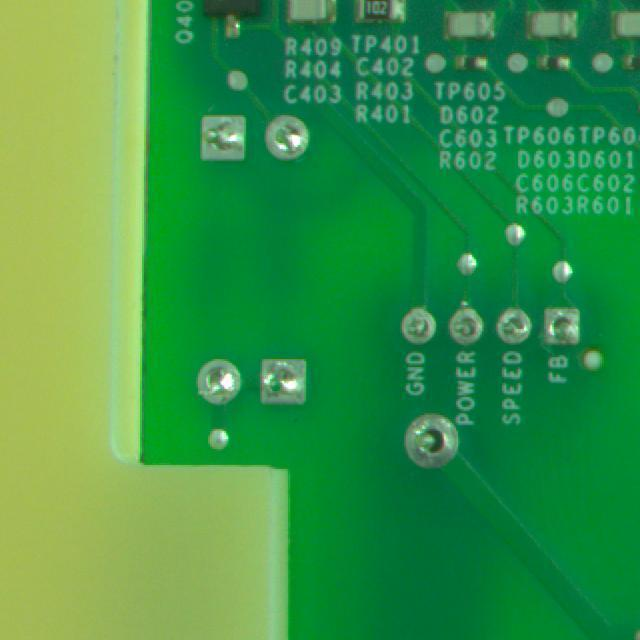Insufficient solder: (389, 399, 474, 480), (248, 341, 323, 428), (187, 342, 248, 418), (182, 105, 248, 168), (260, 107, 328, 156), (397, 300, 441, 349), (547, 303, 585, 357), (502, 309, 539, 353), (451, 304, 485, 350)
